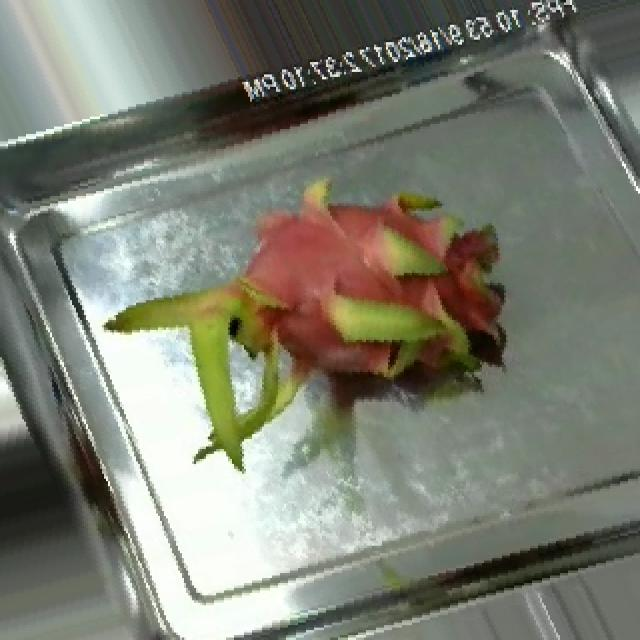fruit: (134, 102, 560, 523)
